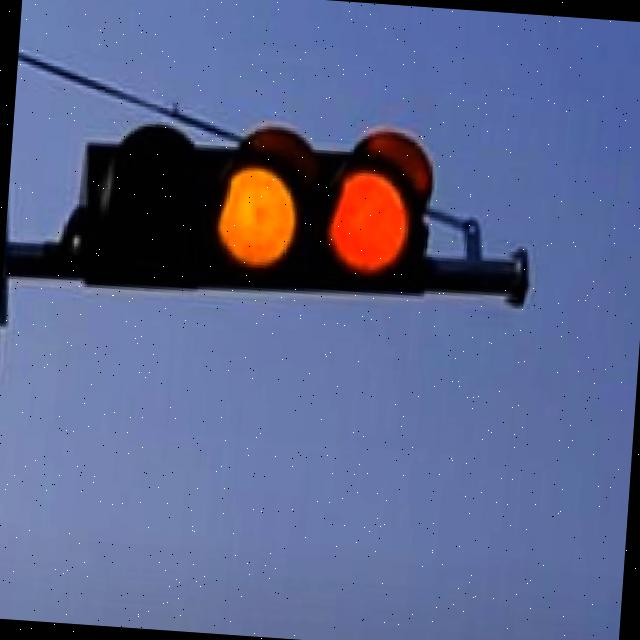Zolte swiatlo: (74, 267, 246, 634)
